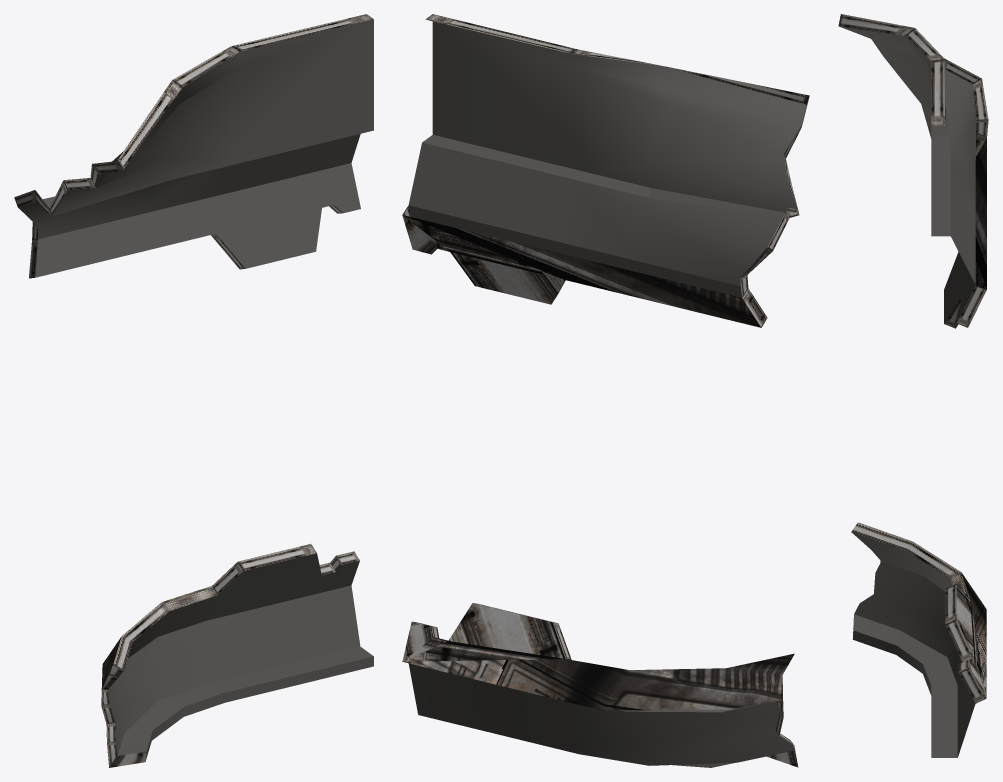
The model's file is theta_ground_noplate_broken01.dae.
The picture shows the model from 3 angles, left to right: view 1: azimuth 30°, elevation 25°; view 2: azimuth 150°, elevation 25°; view 3: azimuth 270°, elevation 25°; orthographic projection. The views are drawn at different scales.
Parts seen in each view (by area): view 1: polySurface31; view 2: polySurface31; view 3: polySurface31.
Boxes of the visible parts, x1=… form: polySurface31: x1=14, y1=14, x2=373, y2=767; polySurface31: x1=402, y1=14, x2=809, y2=767; polySurface31: x1=838, y1=14, x2=988, y2=757.
Size of the model in its own units: 2.17 by 4.03 by 0.8474.
